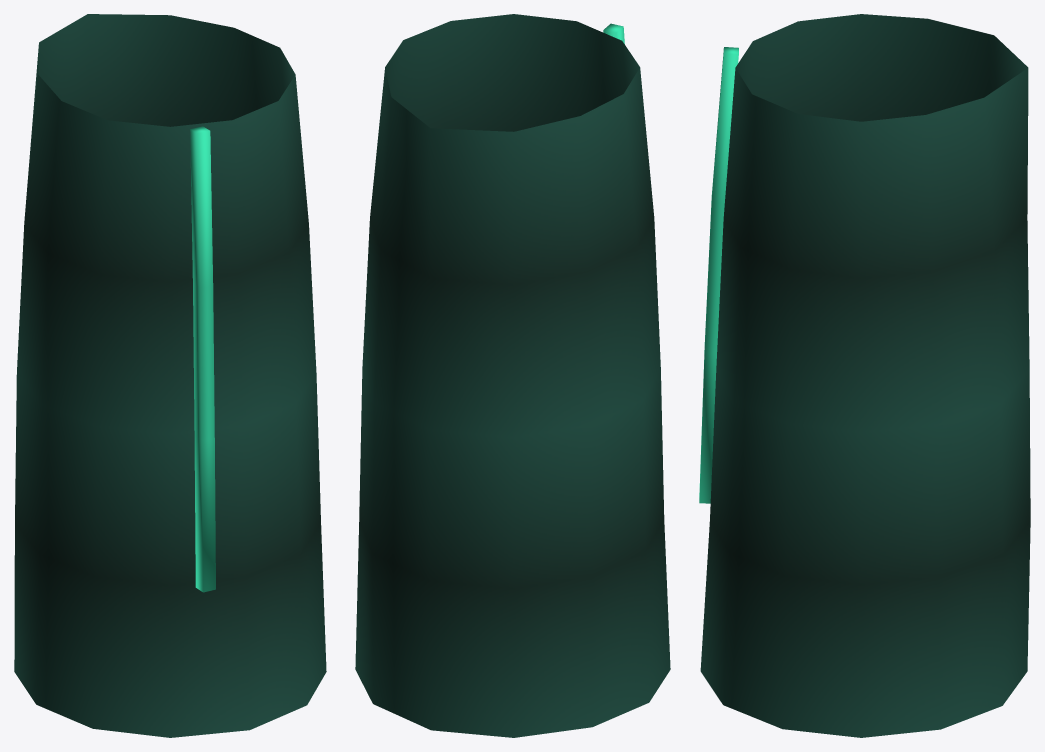
Rendered from vortex_armor_greave.R.glb.
3 views of the same model, side by side, from view 1: azimuth 30°, elevation 25°; view 2: azimuth 150°, elevation 25°; view 3: azimuth 270°, elevation 25° (orthographic).
Parts seen in each view (by area): view 1: vortex_armor_greave.R; view 2: vortex_armor_greave.R; view 3: vortex_armor_greave.R.
Boxes of the visible parts, <box> form: vortex_armor_greave.R: <box>14,14,326,737</box>; vortex_armor_greave.R: <box>355,14,670,737</box>; vortex_armor_greave.R: <box>699,14,1030,737</box>.
Size of the model in its own units: 0.1776 by 0.3771 by 0.1873.
